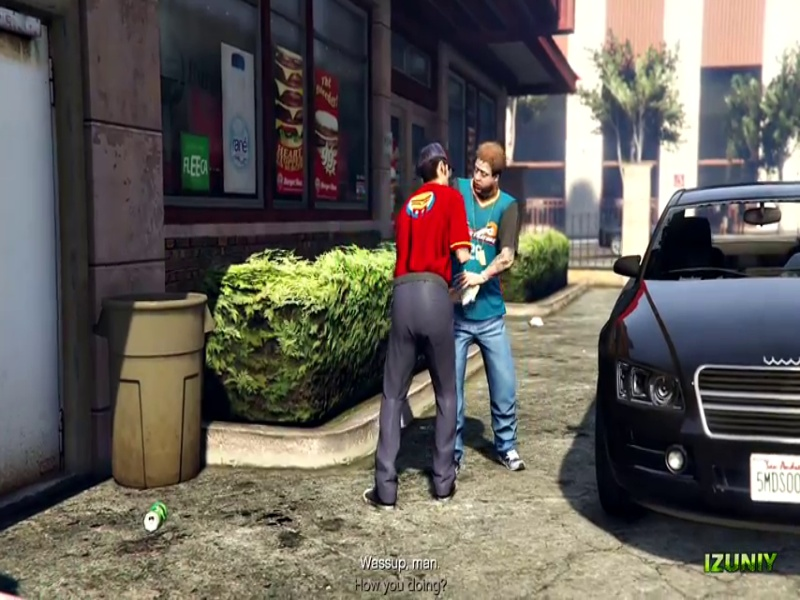human: (381, 131, 494, 505)
